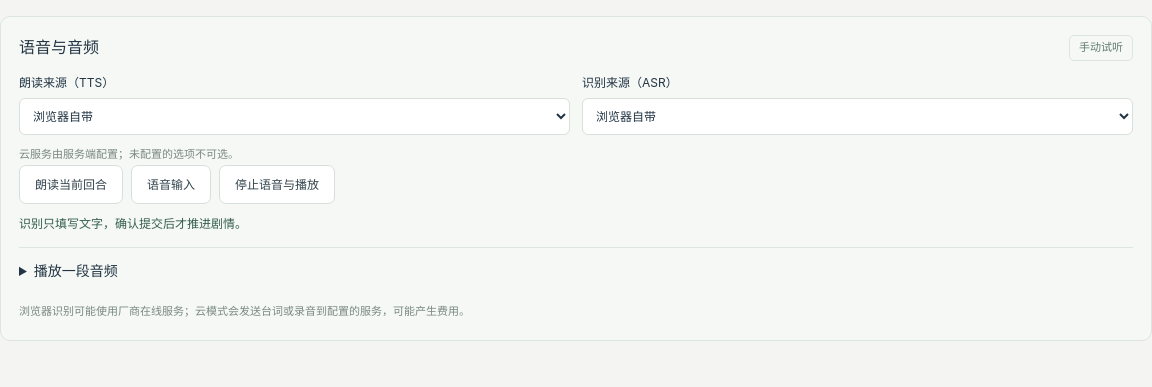
it: simulator speech A01–A05 › shows permission denial, then lets the user retry
The image size is (1152, 387).
Expected: the text "云服务由服务端配置；未配置的选项不可选。" is shown, [19,147,239,161]
Click the button "语音输入". click: (171, 184)
box: [131,165,211,204]
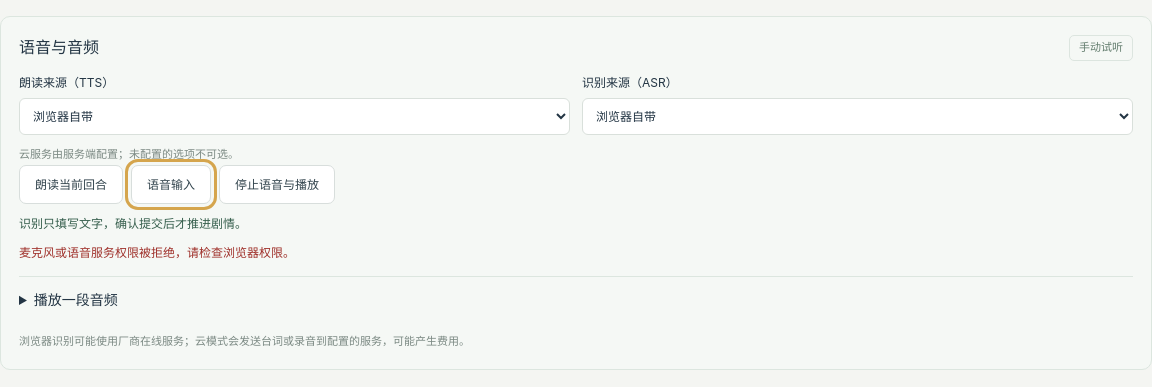
Expected: the message "麦克风或语音服务权限被拒绝，请检查浏览器权限。" is shown, [19,245,295,260]
Click the button "语音输入". click: (171, 184)
box: [131,165,211,204]
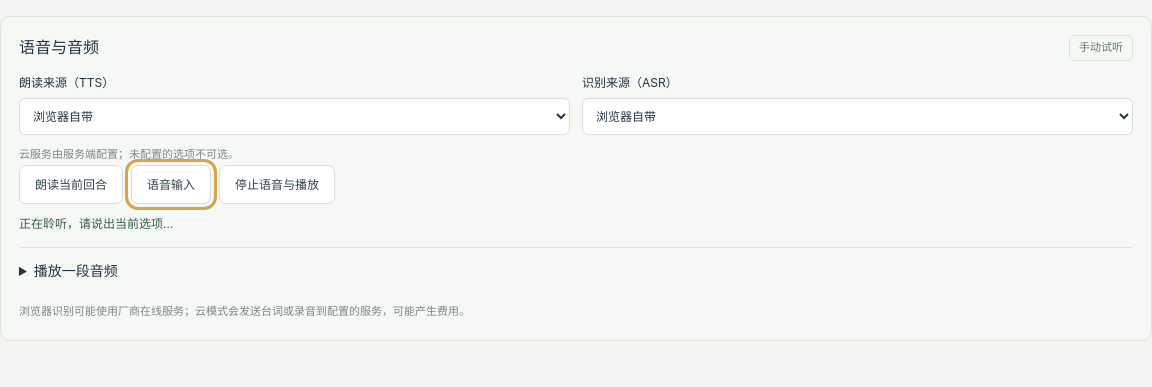
Expected: the message "麦克风或语音服务权限被拒绝，请检查浏览器权限。" is gone
Click the button "停止语音与播放". click: (277, 184)
box: [219,165,335,204]
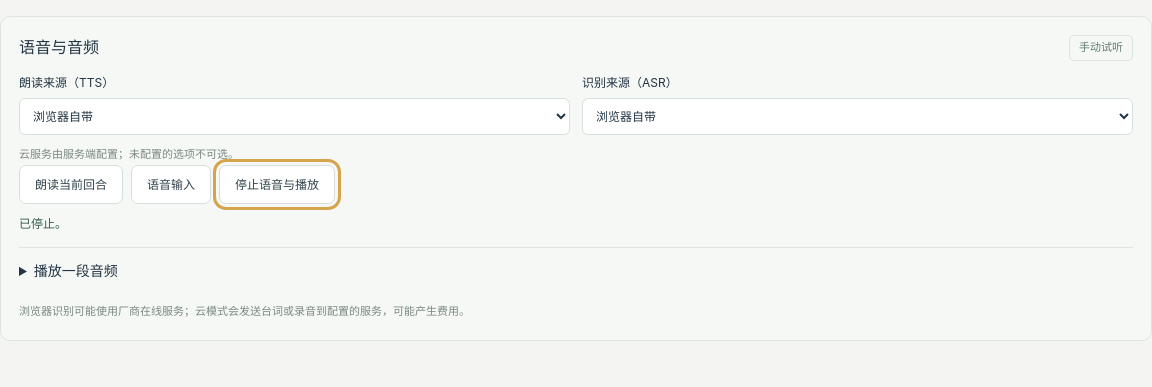
Expected: the message shows "已停止", [19,216,67,231]
